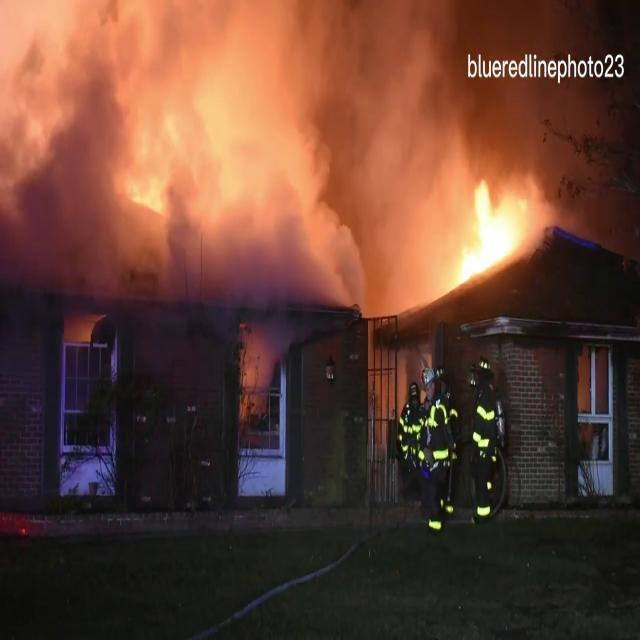Fire: (434, 170, 538, 292)
Smoke: (0, 0, 467, 284)
